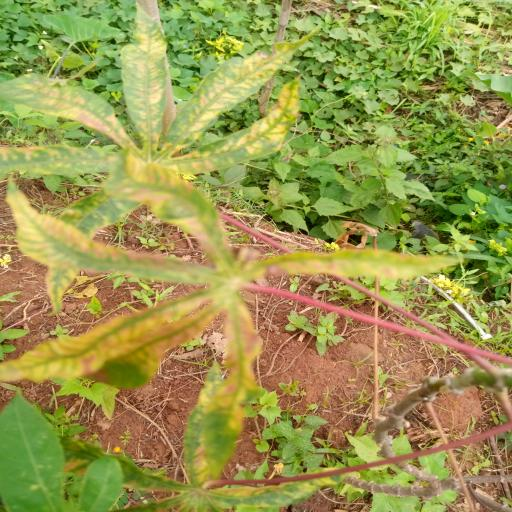Cassava_Mosaic: (5, 177, 446, 490), (4, 0, 302, 311)
